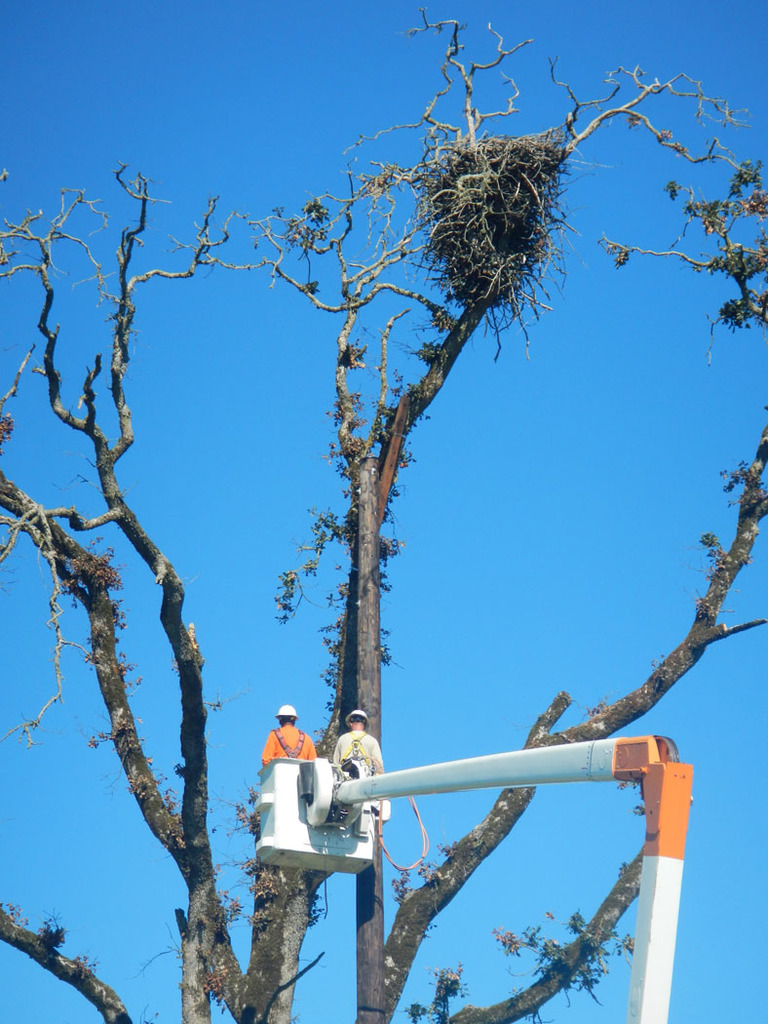Tree: (0, 4, 767, 1022)
